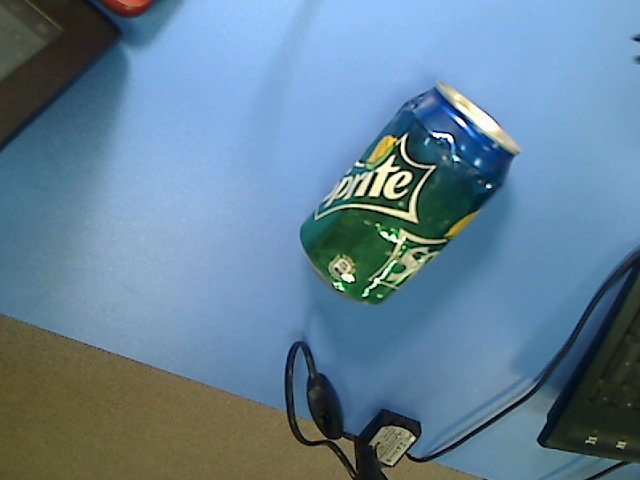can: (298, 80, 523, 308)
